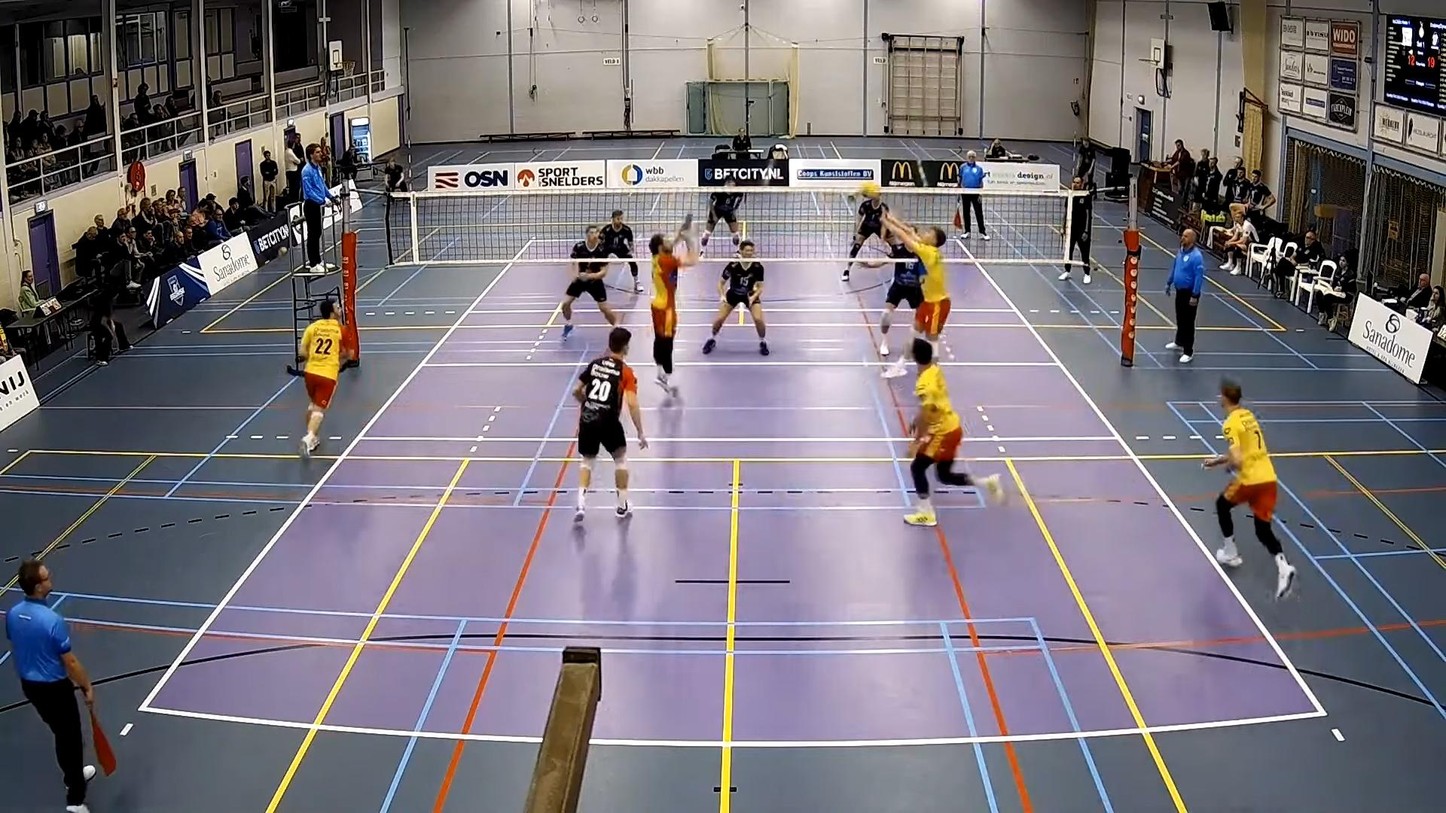Player: (1204, 381, 1295, 598), (574, 327, 647, 521), (905, 338, 975, 525), (649, 215, 697, 396), (298, 300, 347, 457), (702, 239, 768, 355), (560, 226, 618, 339), (879, 232, 923, 356), (841, 184, 888, 280), (600, 209, 642, 291), (700, 179, 742, 247)
Set: (872, 205, 966, 389)
ball: (867, 185, 880, 196)
